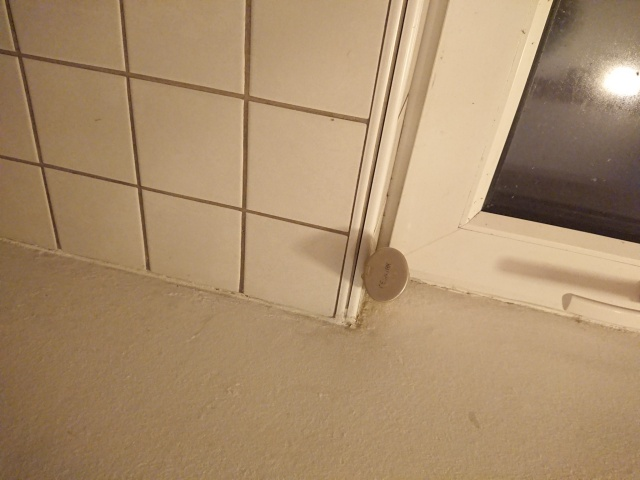Kotanyi Garlic Granules 70g: (359, 245, 412, 304)
